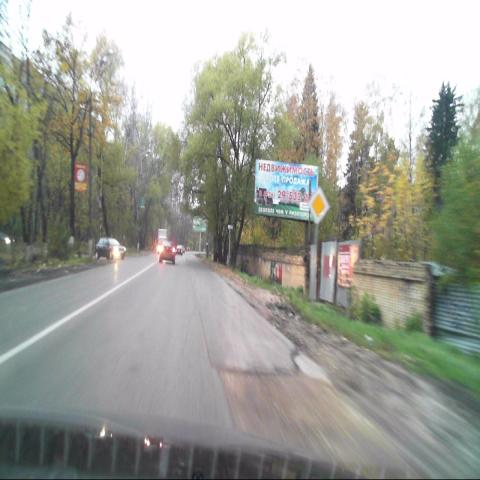2_1: (308, 186, 330, 224)
